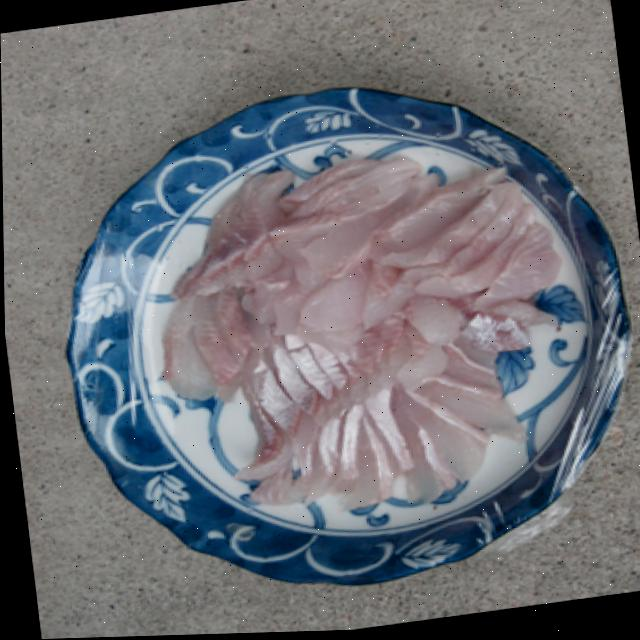刺身生食: (109, 99, 626, 564)
